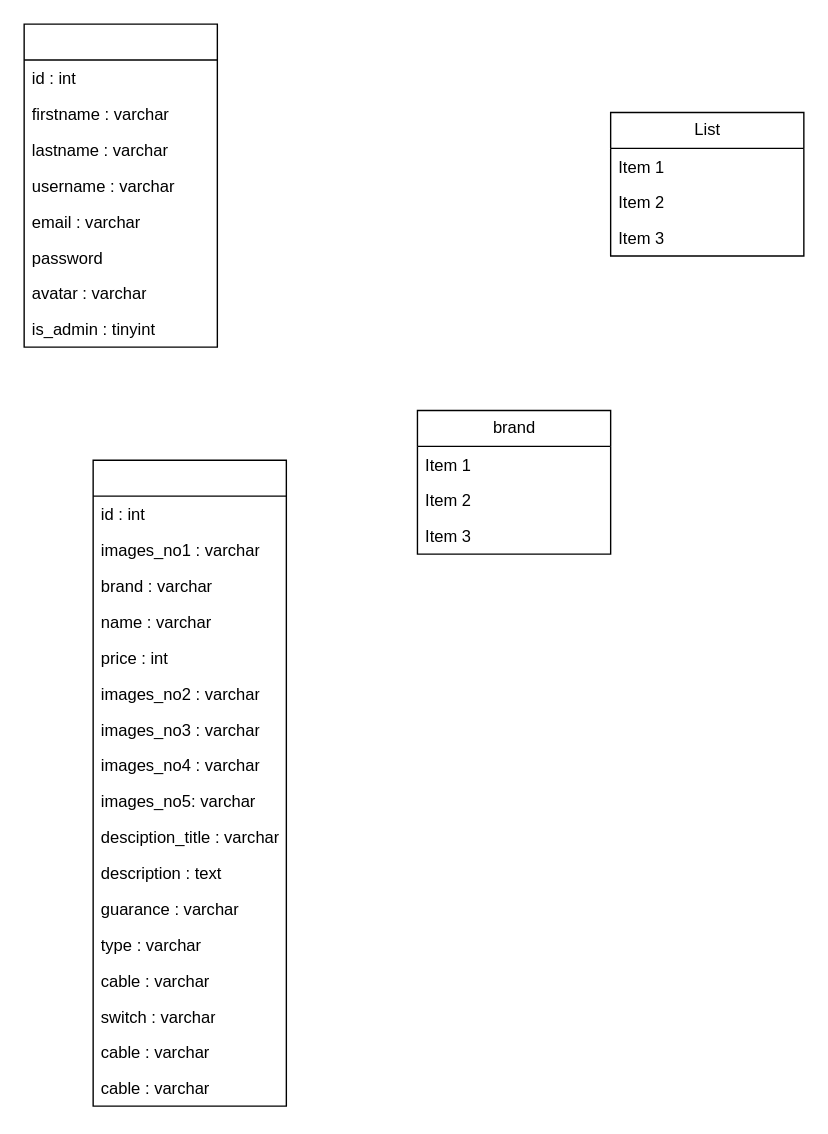
Some shapes in this 828 by 1134 pixel diagram are drawn without their labels. The shapes that lost their labels are listed below. From the top down, each one's box as (x1, y1, x2, y2) in pixels, then its label:
(23, 23, 217, 347): users
(92, 459, 286, 1106): products
